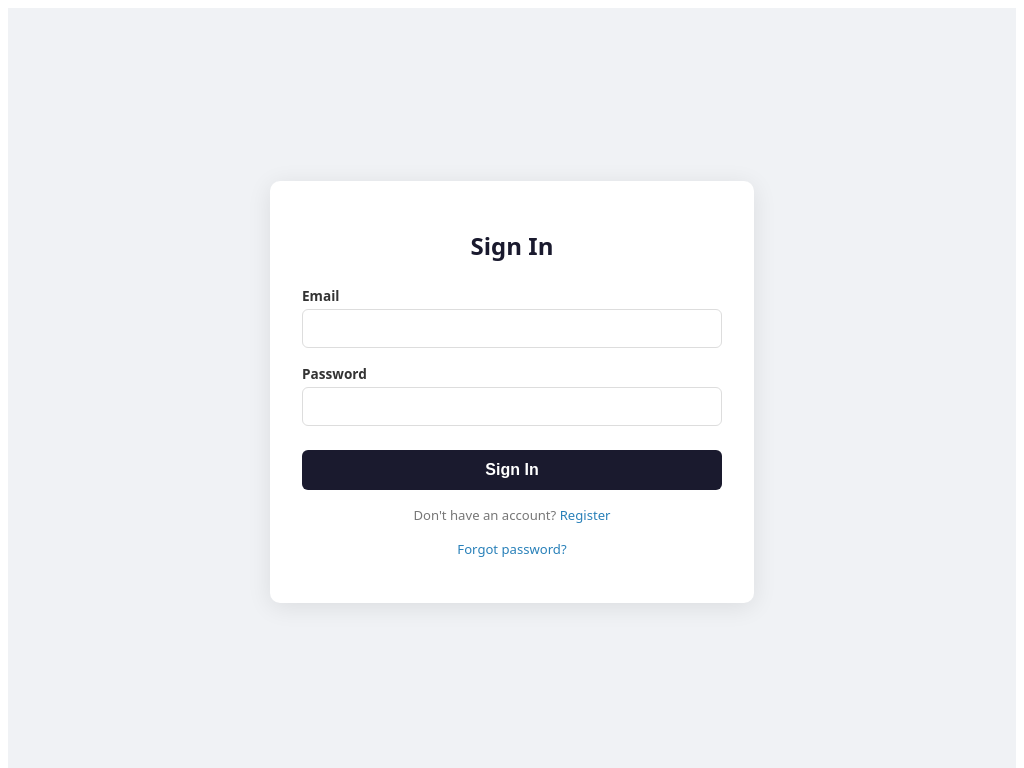
Scenario: Login — security behaviours › shows generic error on 401 — no user enumeration
Step 1. Type "wrong@example.com" into the field labelled "Email" → x=512, y=328, box [302,309,722,348]
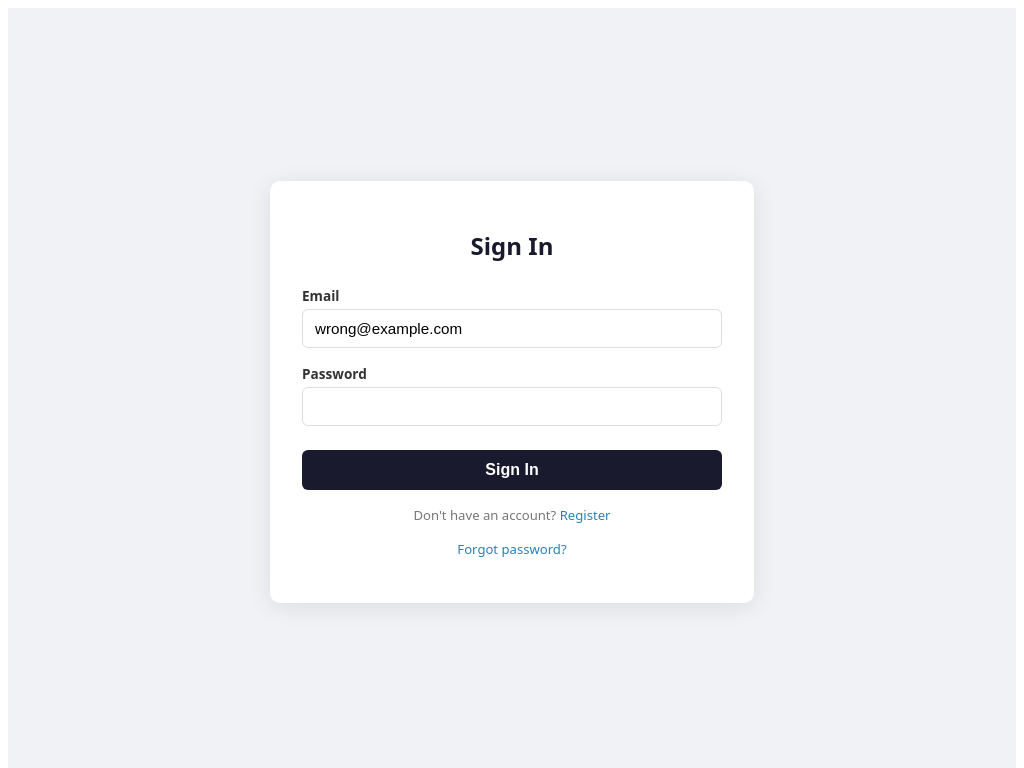
Step 2. Type "wrongpass" into the password field labelled "Password" → x=512, y=406, box [302,387,722,426]
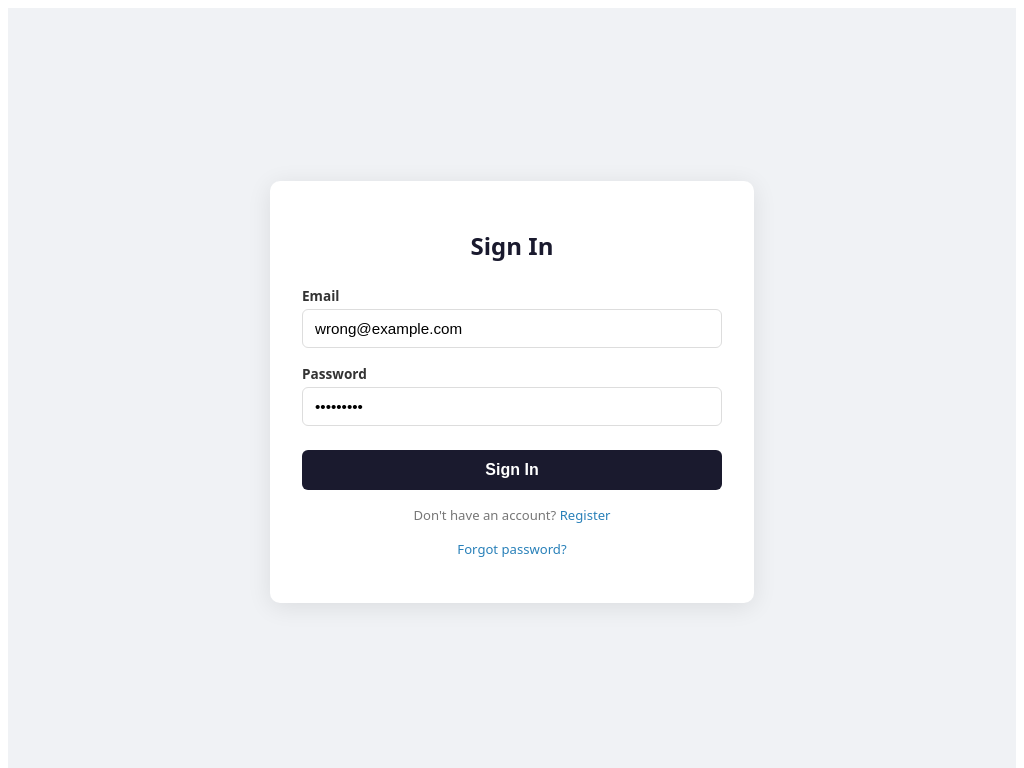
Step 3. Click the button "Sign In" → x=512, y=470, box [302,450,722,490]
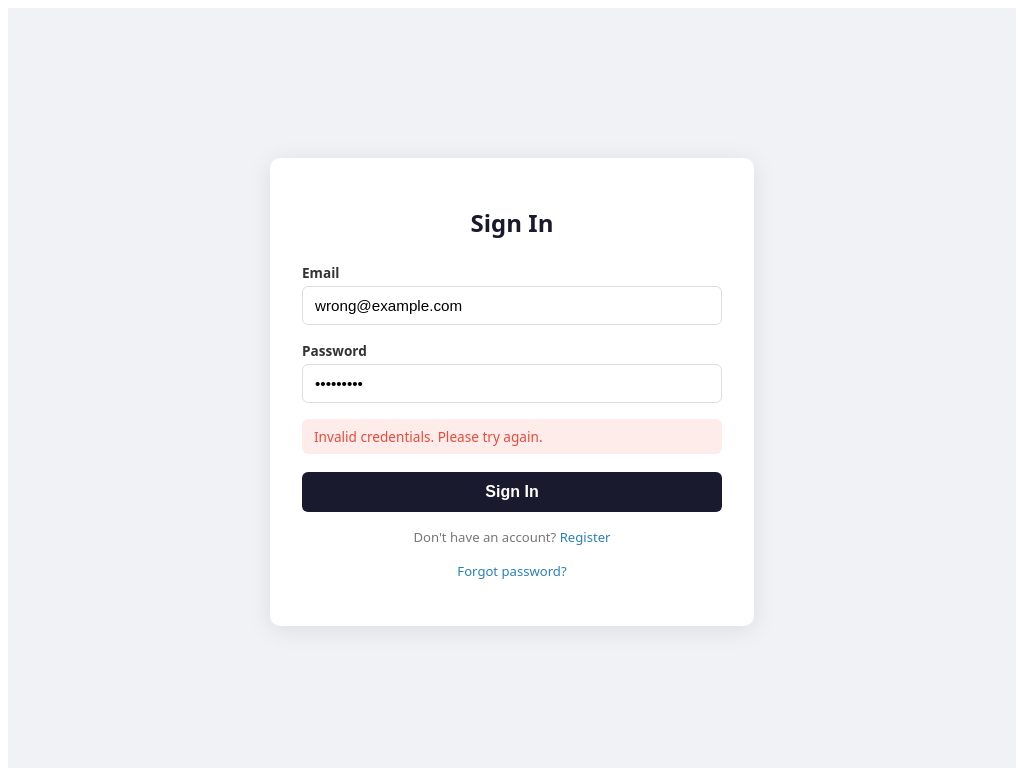
Check: the message shows "Invalid credentials", box [314,428,542,446]
